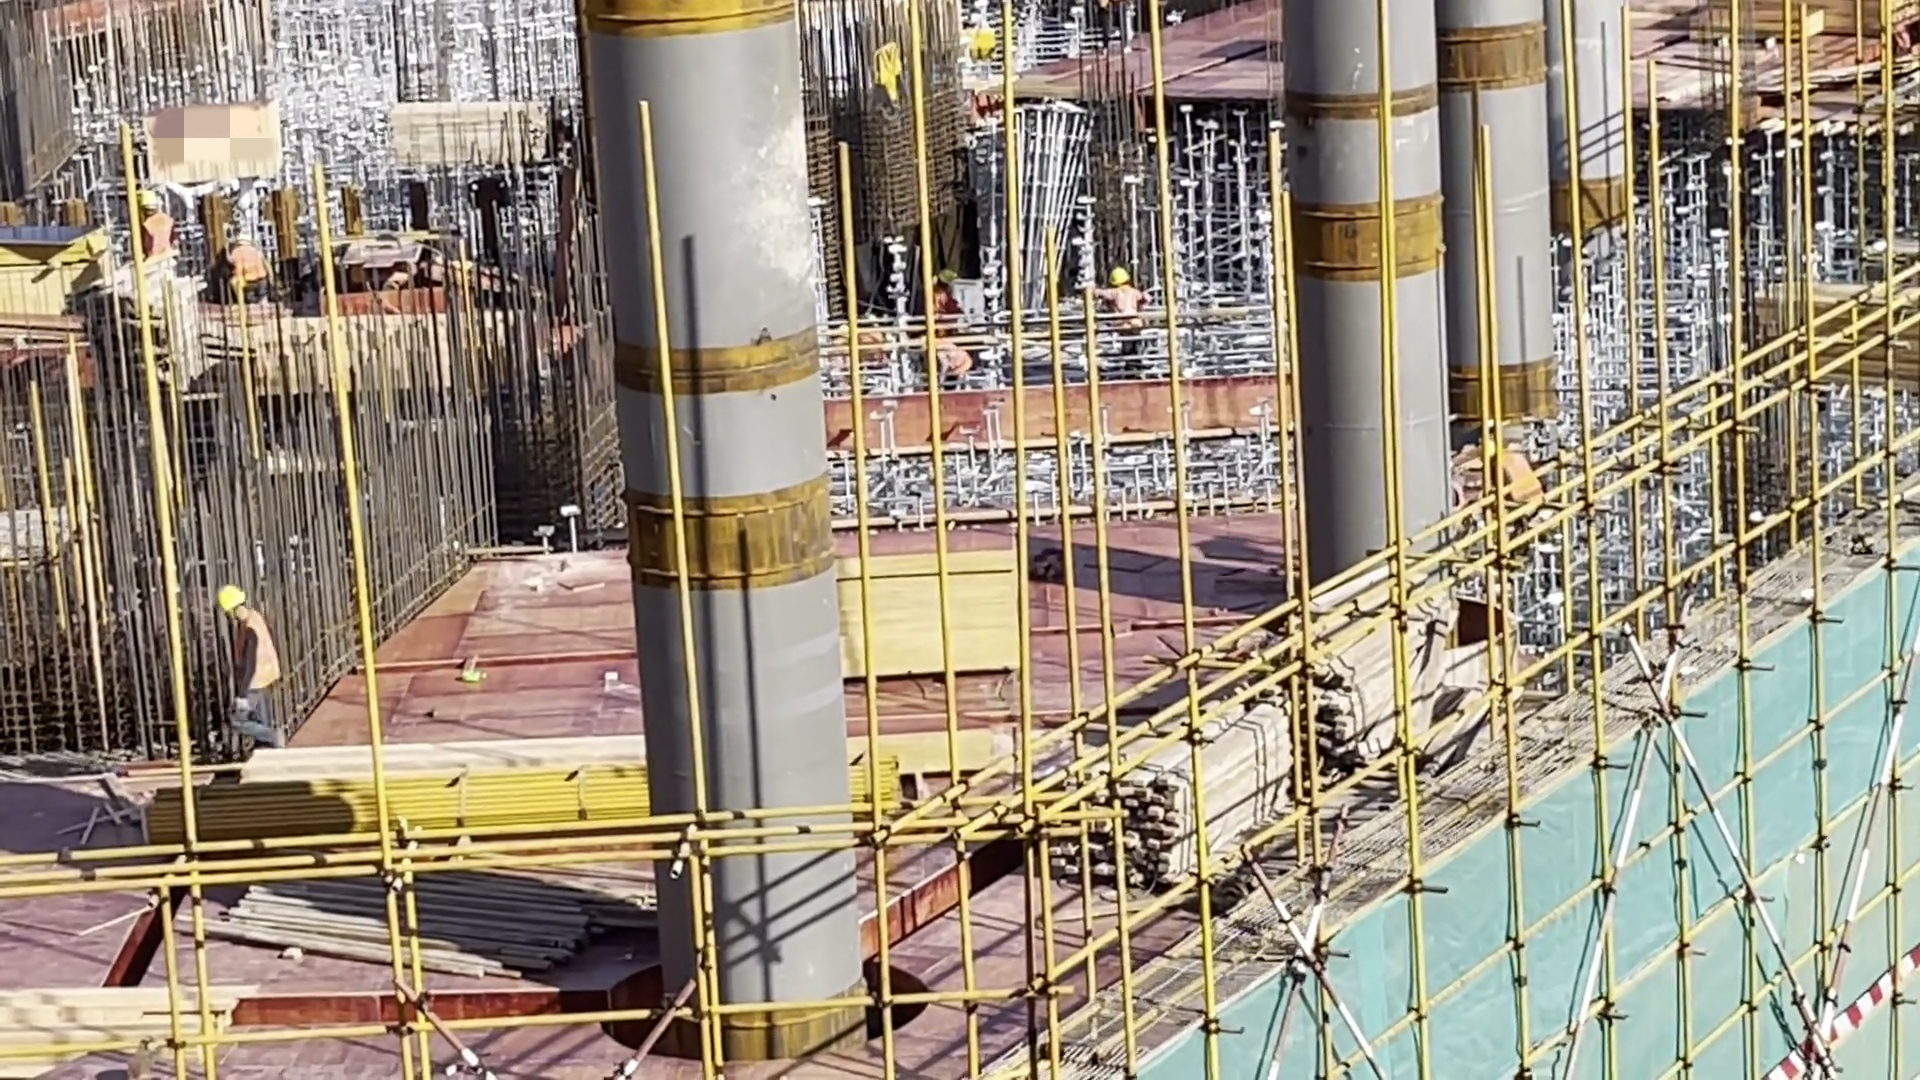helmet: (133, 188, 164, 230), (219, 585, 244, 624), (1104, 264, 1134, 294), (936, 268, 957, 298)
hook: (869, 40, 918, 127)
person: (209, 582, 297, 752), (1087, 269, 1154, 380), (211, 227, 284, 299), (909, 332, 985, 389), (128, 183, 188, 254), (913, 267, 967, 325)
vest: (224, 611, 272, 692)
wood: (226, 849, 607, 1009), (1270, 561, 1536, 786), (1052, 690, 1314, 902)
